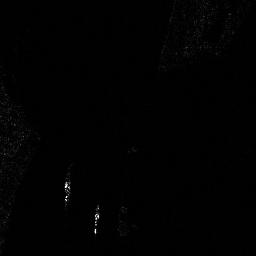ship: (92, 204, 102, 234), (63, 178, 71, 204)
